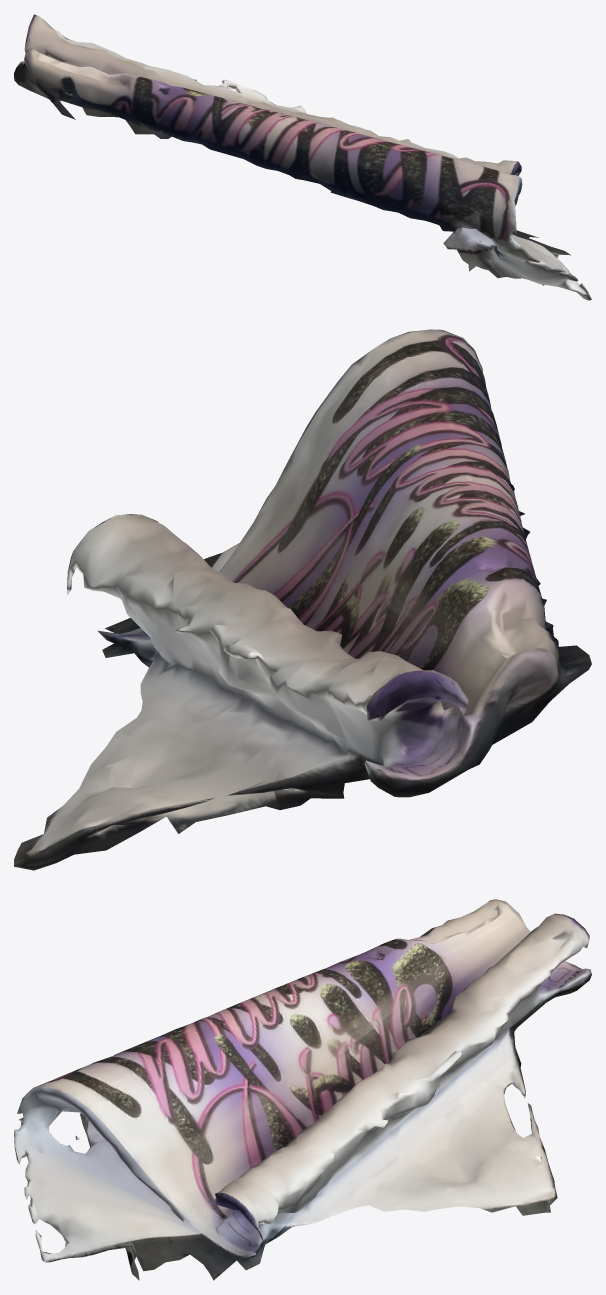
File: MHdr_poster.glb
3 views of the same model, one above another, from view 1: azimuth 30°, elevation 25°; view 2: azimuth 150°, elevation 25°; view 3: azimuth 270°, elevation 25° (orthographic). The views are drawn at different scales.
Parts seen in each view (by area): view 1: MHdr poster; view 2: MHdr poster; view 3: MHdr poster.
Part boxes in pixels (x1,y1,x2,y2): MHdr poster: (14,14,591,300); MHdr poster: (14,329,591,870); MHdr poster: (14,899,591,1280).
Bounding box in the file's own units: 1.32 × 0.6354 × 1.64.
1 material, 1 textured.
